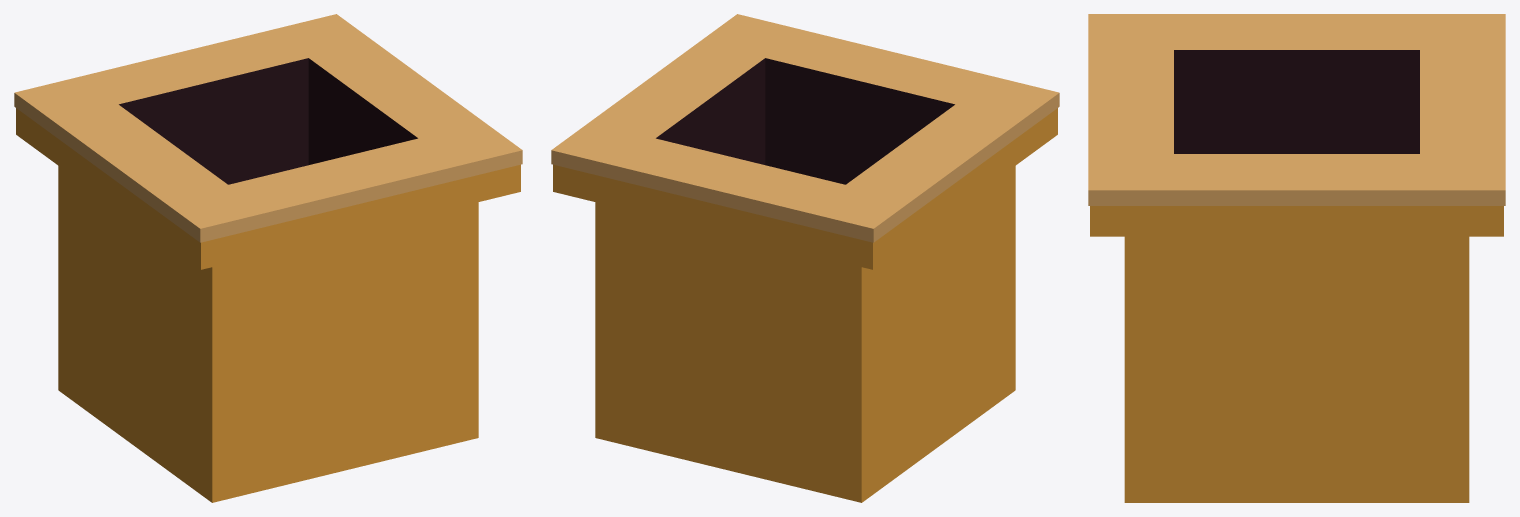
Rendered from trash.fbx.
3 views of the same model, side by side, from view 1: azimuth 30°, elevation 25°; view 2: azimuth 150°, elevation 25°; view 3: azimuth 270°, elevation 25° (orthographic). The views are drawn at different scales.
Visible parts, largest first — view 1: Trash; view 2: Trash; view 3: Trash.
Part boxes in pixels (x1,y1,x2,y2): Trash: [14, 14, 522, 502]; Trash: [551, 14, 1059, 502]; Trash: [1088, 14, 1505, 502].
Size of the model in its own units: 242 by 210 by 242.
